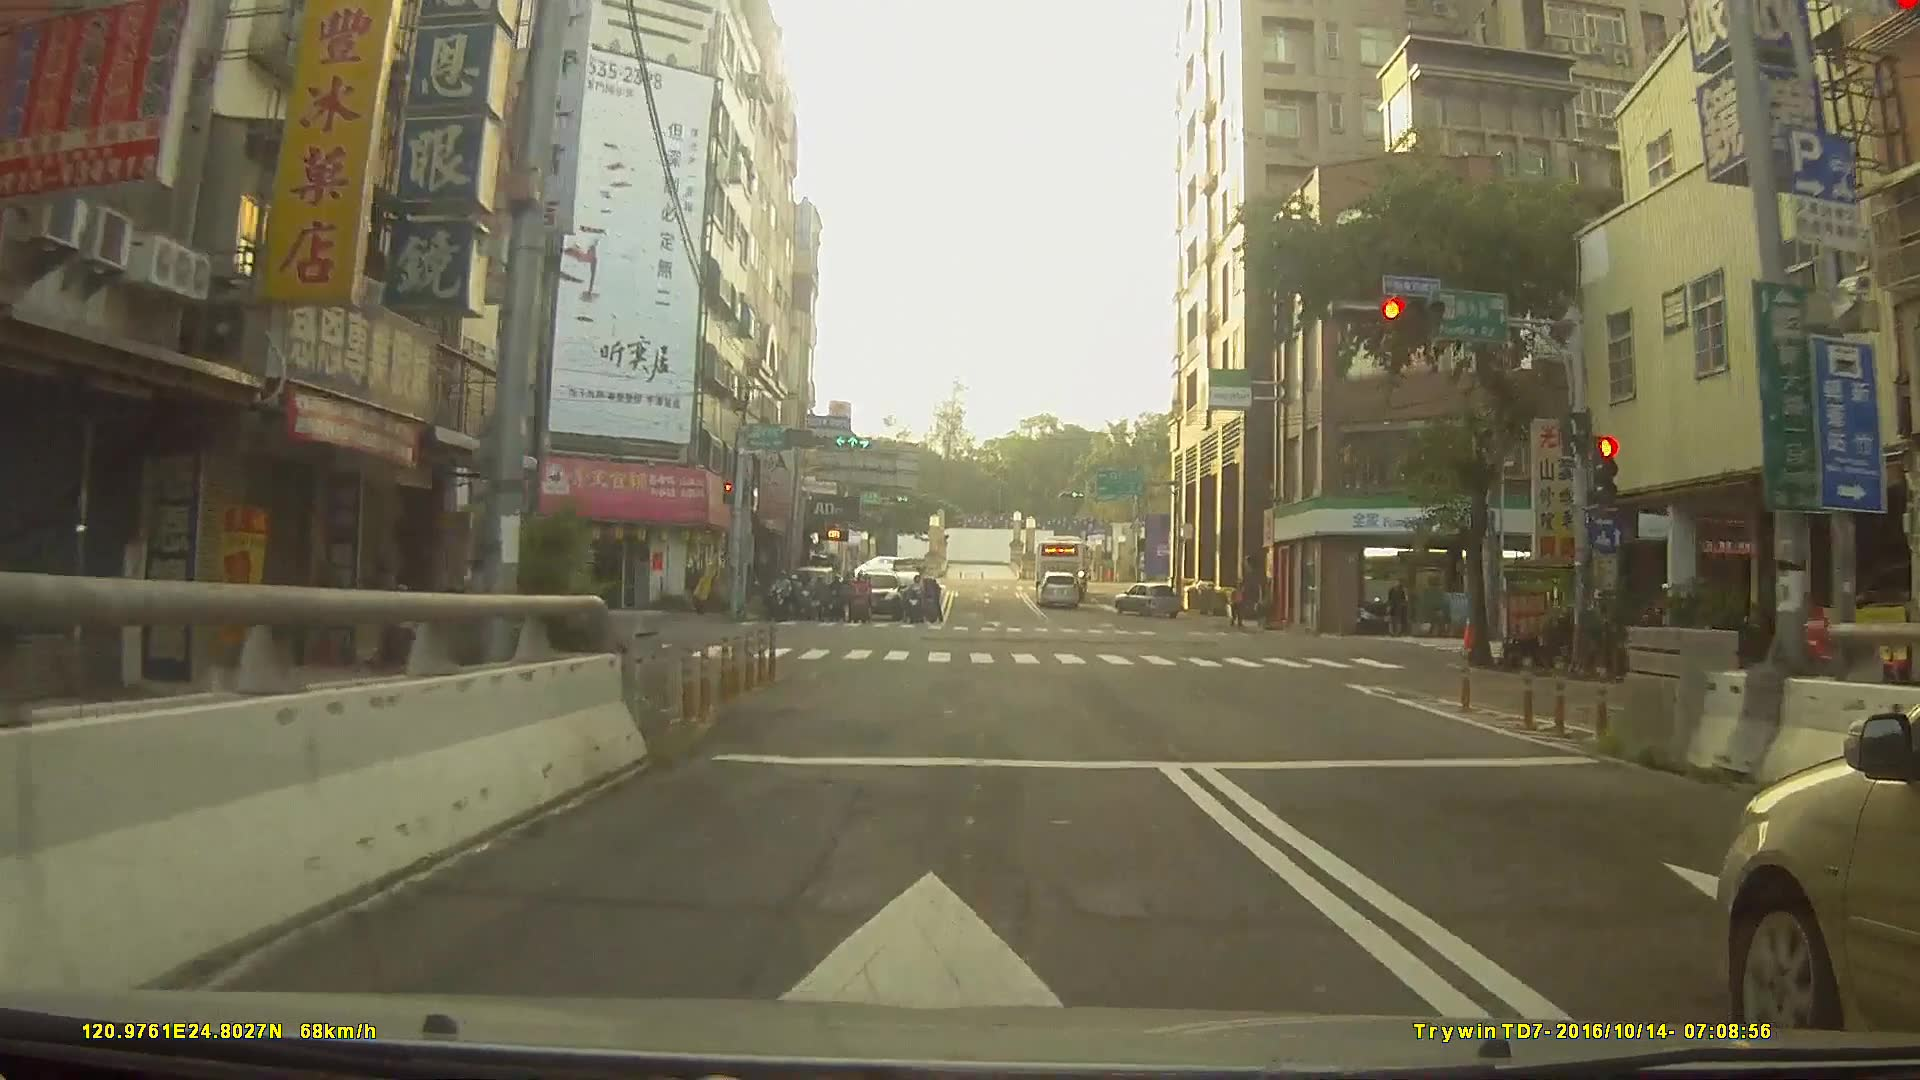pedestrian: (1385, 583, 1411, 640), (1228, 584, 1248, 630)
rider: (768, 569, 796, 624), (848, 575, 873, 623), (825, 578, 849, 628), (797, 577, 820, 623), (906, 579, 927, 629), (922, 585, 942, 633)
vehicle: (1717, 689, 1920, 1048), (849, 576, 904, 630), (1032, 539, 1092, 590), (1111, 582, 1180, 618), (855, 553, 917, 583), (1035, 574, 1082, 608)
